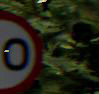Speed limit: (0, 4, 43, 91)
